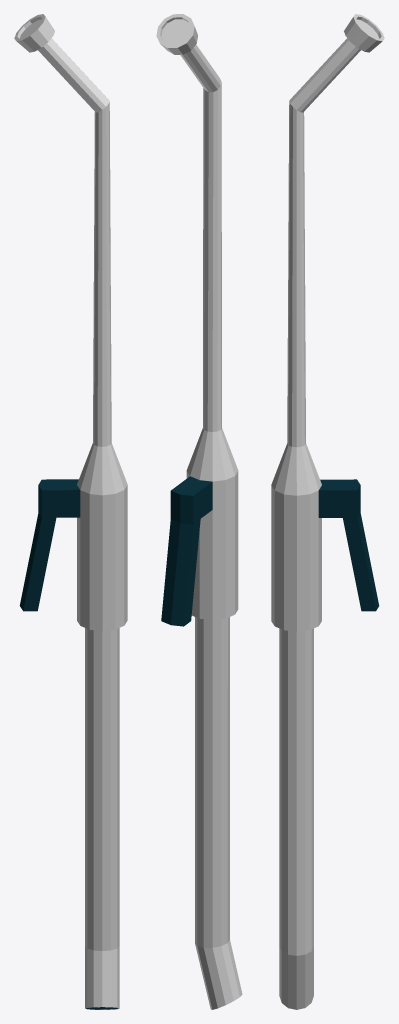
The model's file is sprayer handle.fbx.
The picture shows the model from 3 angles, left to right: view 1: azimuth 90°, elevation 25°; view 2: azimuth 150°, elevation 25°; view 3: azimuth 270°, elevation 25°; orthographic projection. The views are drawn at different scales.
Visible parts, largest first — view 1: Cylinder.001; view 2: Cylinder.001; view 3: Cylinder.001.
Boxes of the visible parts, x1=… form: Cylinder.001: x1=14, y1=14, x2=127, y2=1009; Cylinder.001: x1=156, y1=14, x2=242, y2=1009; Cylinder.001: x1=271, y1=14, x2=384, y2=1009.
Bounding box in the file's own units: 6.2 × 120 × 12.47.
